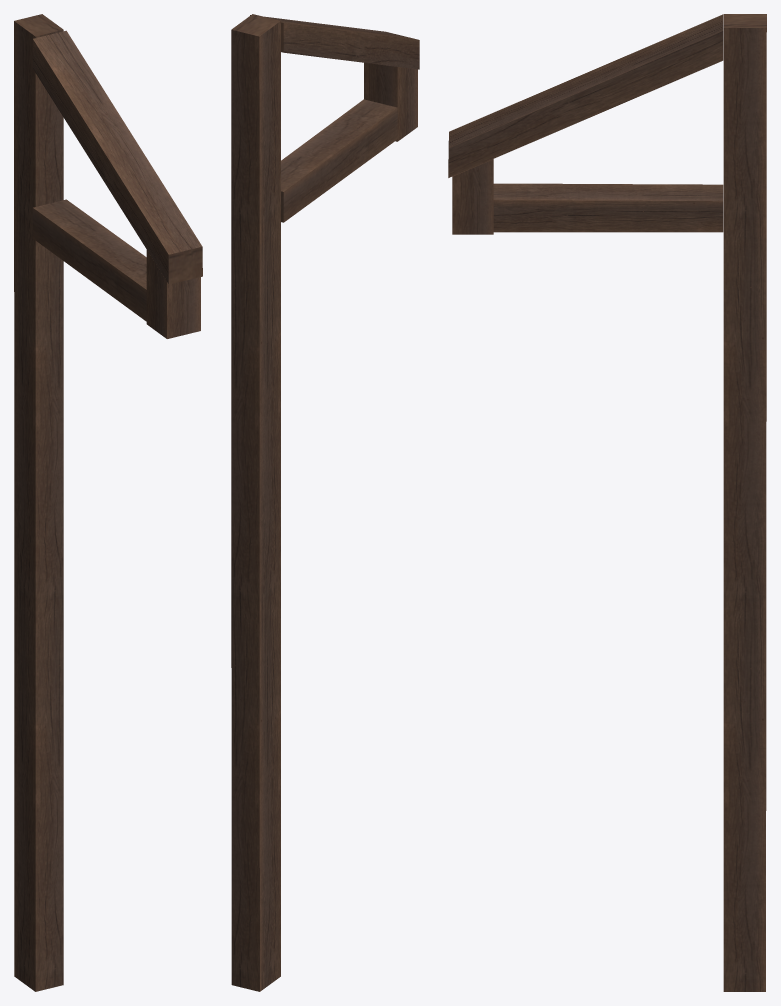
Rendered from yane_frame_1t_0f_2.fbx.
3 renders of one model, left to right at view 1: azimuth 30°, elevation 25°; view 2: azimuth 150°, elevation 25°; view 3: azimuth 270°, elevation 25°, orthographic.
Parts seen in each view (by area): view 1: yane_frame_1t_0f_2; view 2: yane_frame_1t_0f_2; view 3: yane_frame_1t_0f_2.
Part boxes in pixels (bbox=[...]): yane_frame_1t_0f_2: bbox=[14, 14, 202, 991]; yane_frame_1t_0f_2: bbox=[231, 14, 419, 991]; yane_frame_1t_0f_2: bbox=[448, 14, 766, 991].
Size of the model in its own units: 15.81 by 428 by 128.
